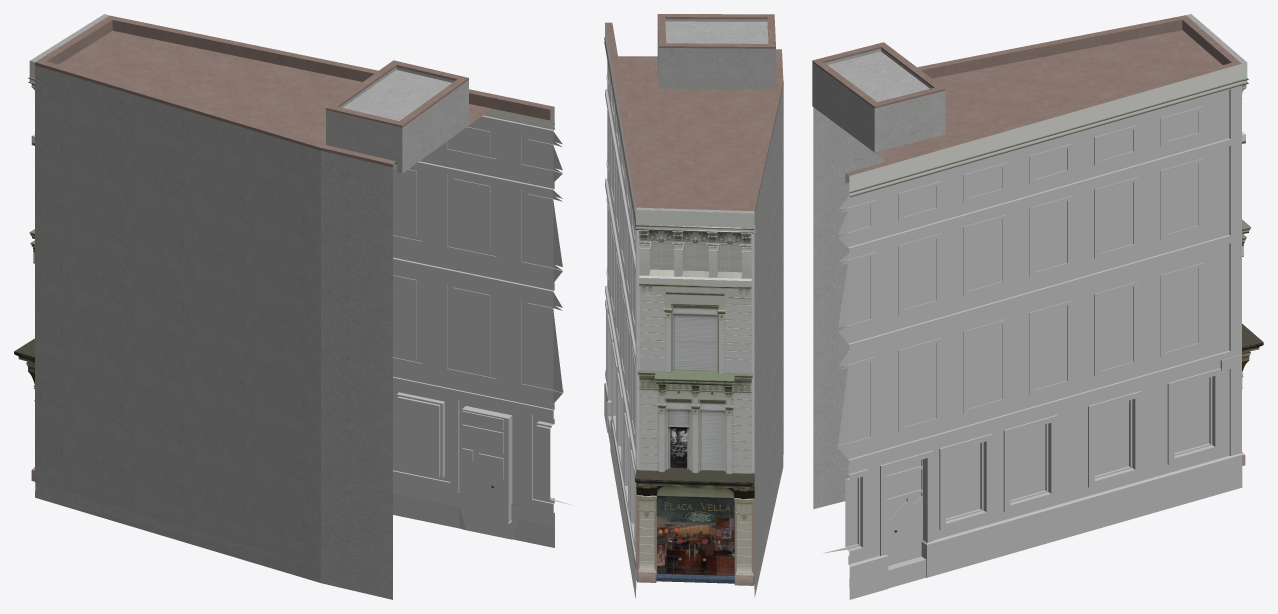
Rendered from vellaCafe.fbx.
The picture shows the model from 3 angles, left to right: view 1: azimuth 30°, elevation 25°; view 2: azimuth 150°, elevation 25°; view 3: azimuth 270°, elevation 25°; orthographic projection. The views are drawn at different scales.
Visible parts, largest first — view 1: polySurface1730, polySurface1763; view 2: polySurface1730, polySurface1763, polySurface1750, polySurface1751, polySurface1745, polySurface1752; view 3: polySurface1763, polySurface1730, polySurface1745.
Part boxes in pixels (<box>): polySurface1730: <box>14,14,554,599</box>; polySurface1763: <box>393,115,573,547</box>; polySurface1730: <box>604,14,783,597</box>; polySurface1763: <box>604,61,636,598</box>; polySurface1750: <box>733,480,754,585</box>; polySurface1751: <box>636,482,656,582</box>; polySurface1745: <box>604,41,755,233</box>; polySurface1752: <box>685,511,714,522</box>; polySurface1763: <box>823,85,1242,599</box>; polySurface1730: <box>812,14,1263,508</box>; polySurface1745: <box>849,82,1248,197</box>.
Size of the model in its own units: 1322 by 1677 by 1495.
